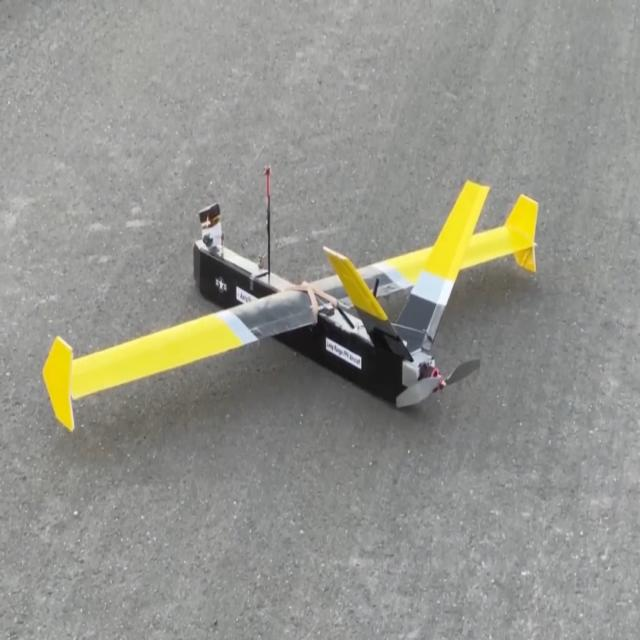iha: (45, 143, 542, 434)
